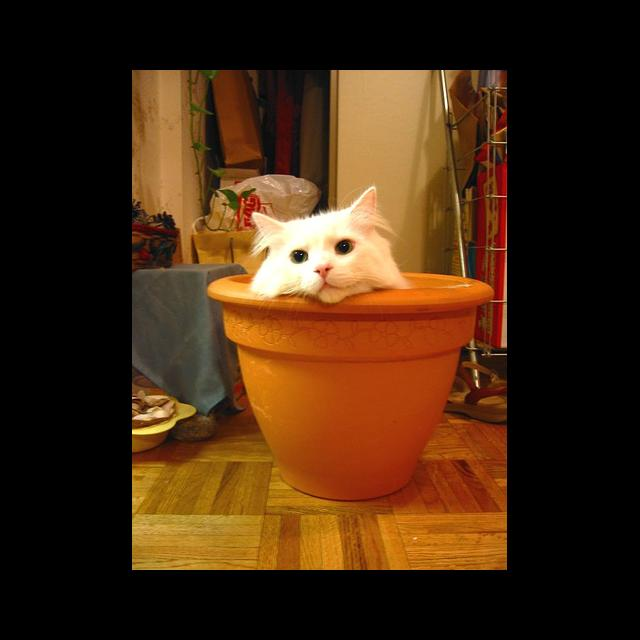animals: (254, 186, 374, 276)
